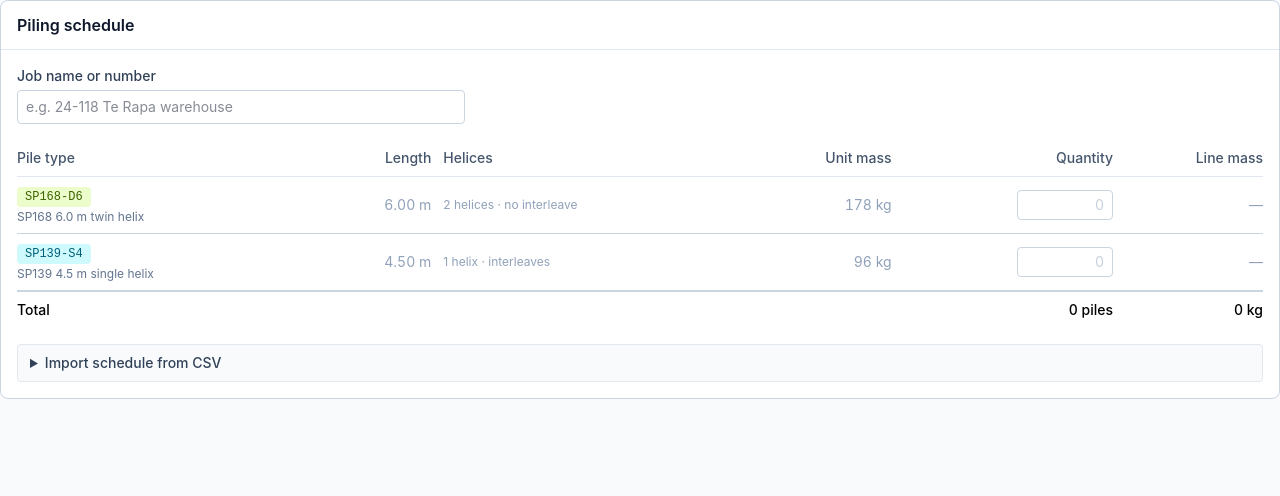
Scenario: quantities › refuses a fractional quantity without committing it
Type "2.5" into the field named "Quantity of SP168-D6" at (1065, 205), box [1017,190,1113,220]
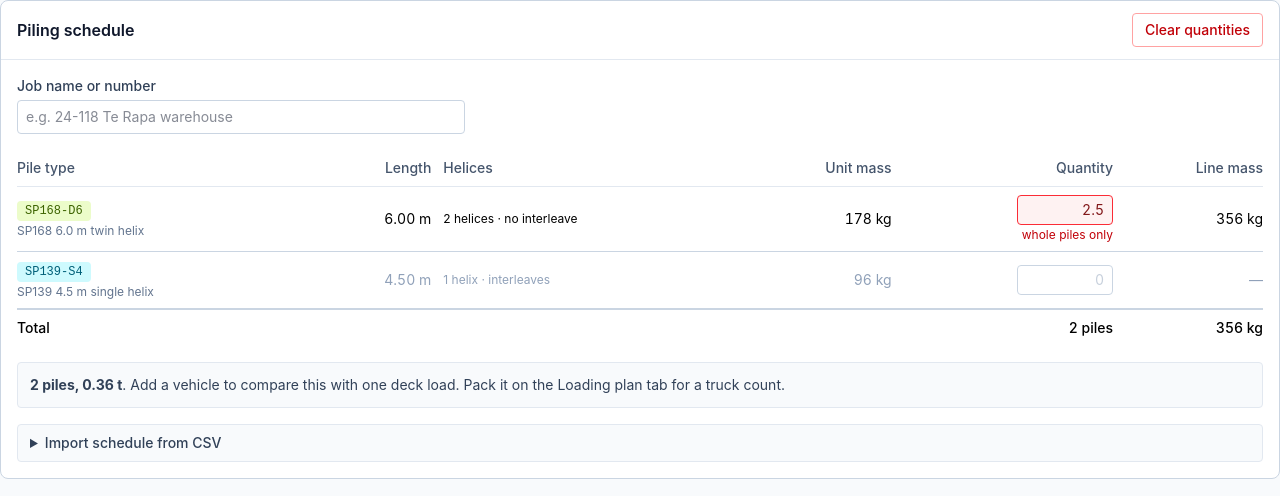
Now the text "whole piles only" is shown, box [1022,227,1113,243]
Now the text "2 piles" is shown, box [904,309,1125,346]
